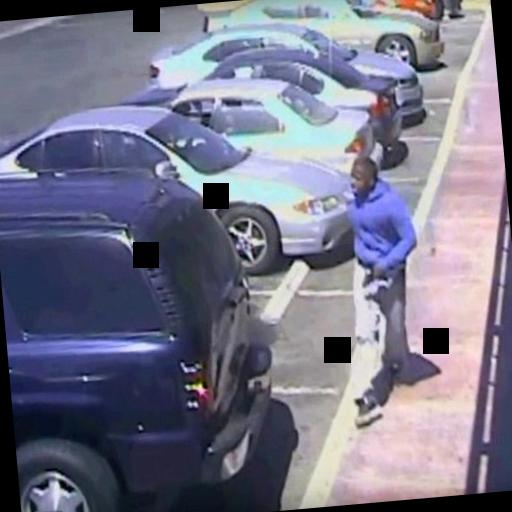Handgun: (352, 258, 387, 288)
